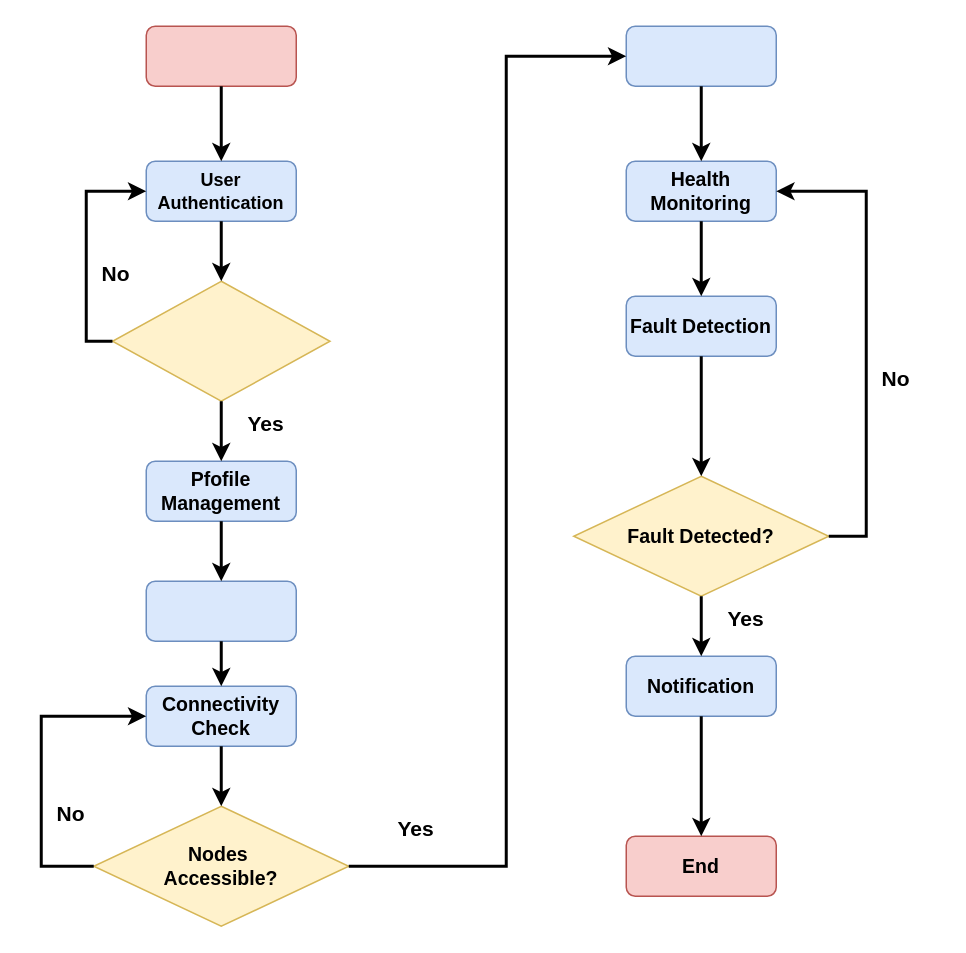
Image size: 966x953. Some labels were removed from this diagram. The shapes that lost their labels are listed below. From the top down, each one's box as (x1, y1, x2, y2) in pixels, then its label:
(145, 25, 296, 86): Start
(625, 25, 776, 86): Setup Script Execution
(111, 280, 330, 401): Authenticated
(145, 580, 296, 641): Cluster Creation
